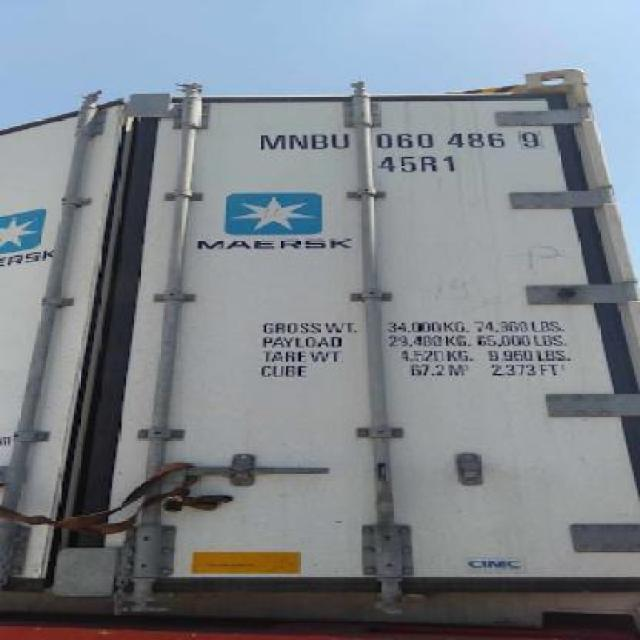ISO: (384, 152, 464, 178)
container_number: (259, 131, 541, 150)
